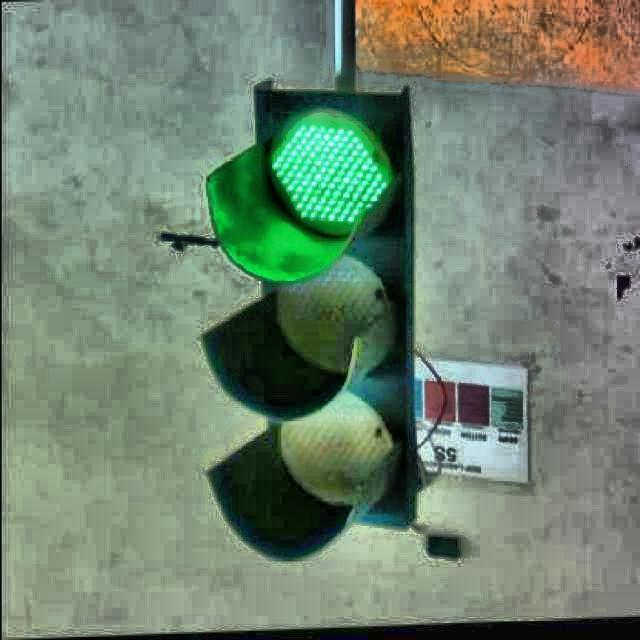green: (244, 79, 432, 544)
